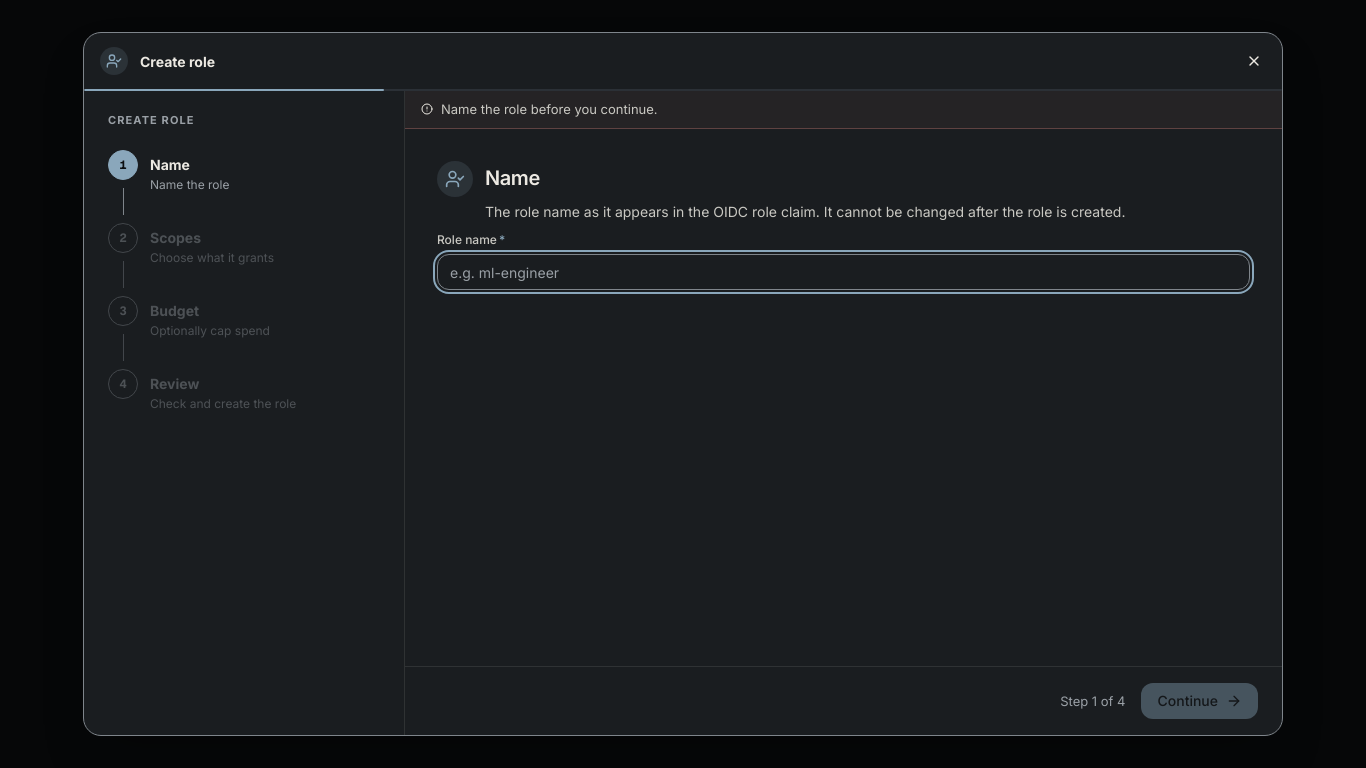
Test: CreateRoleWizard › requires a scope, then creates the role with no budget
Type "ml-engineer" into the field labelled "Role name*" at (844, 272), box [437, 254, 1250, 290]
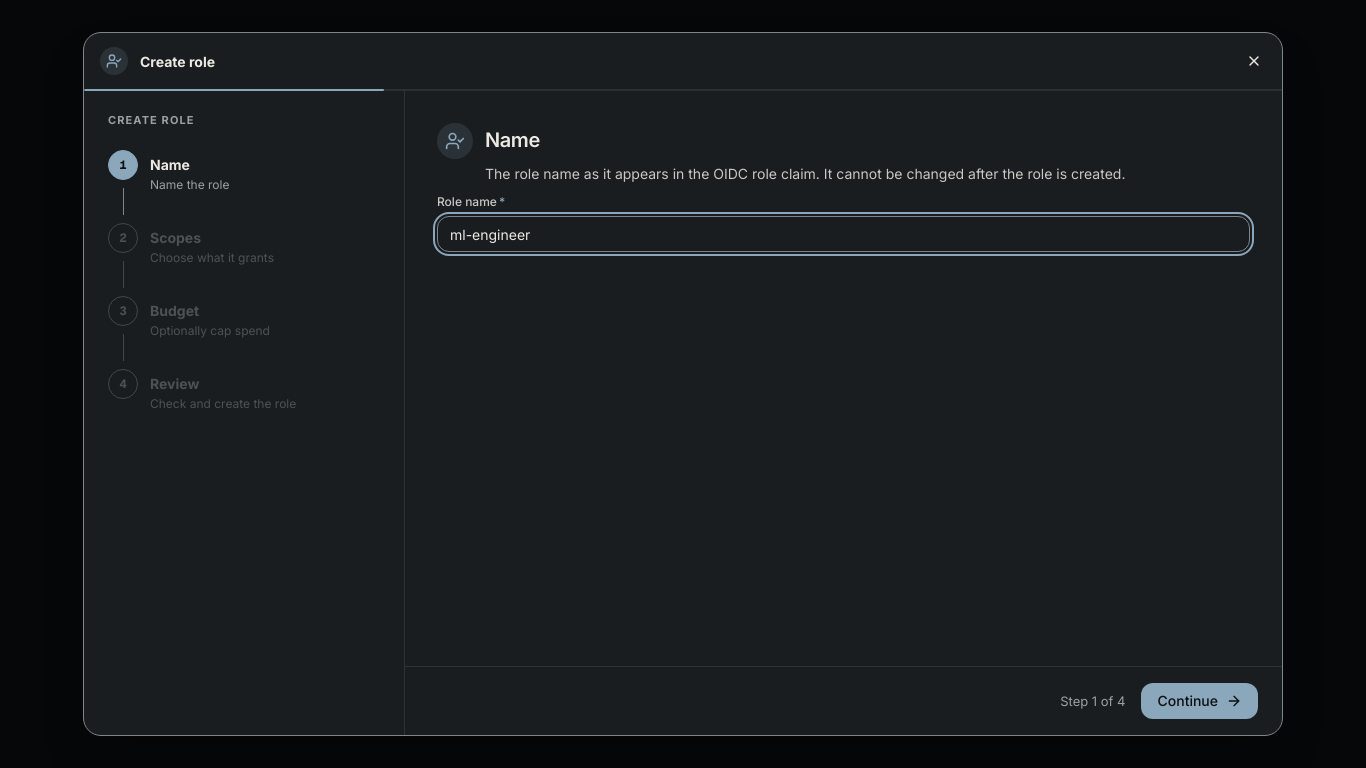
Click the button "Continue" at (1200, 701), box [1142, 683, 1258, 719]
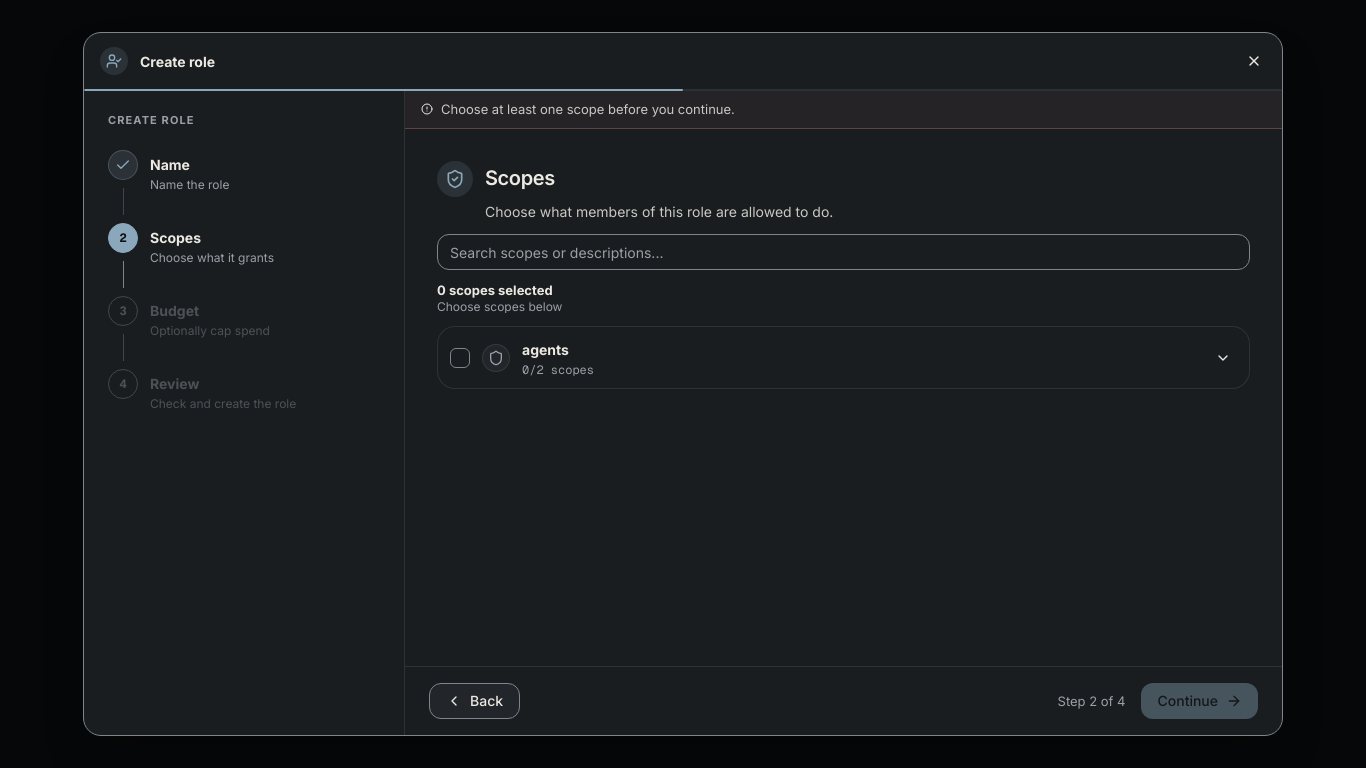
Check: the text "Choose at least one scope before you continue." is shown, box [441, 103, 735, 116]
Click the checkbox at (460, 358), box [450, 348, 470, 368]
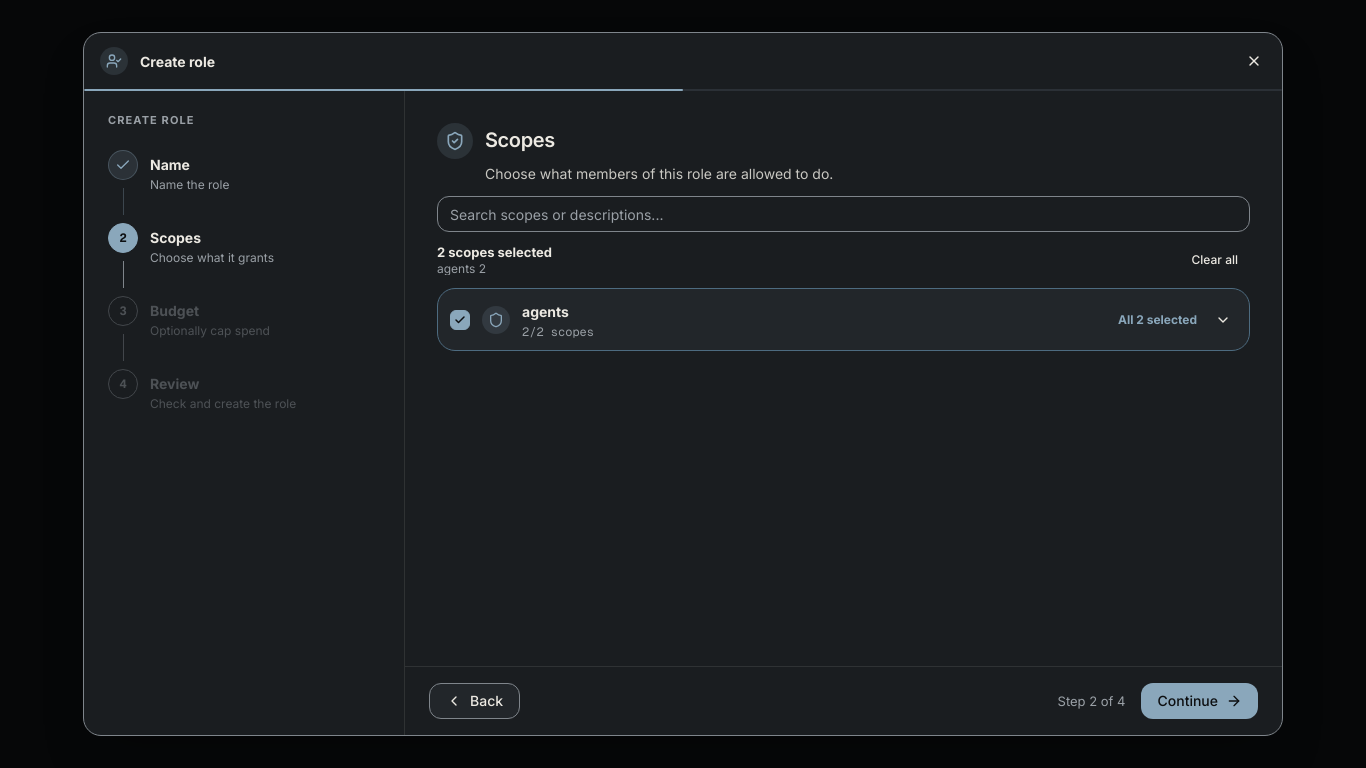
Click the button "Continue" at (1200, 701), box [1142, 683, 1258, 719]
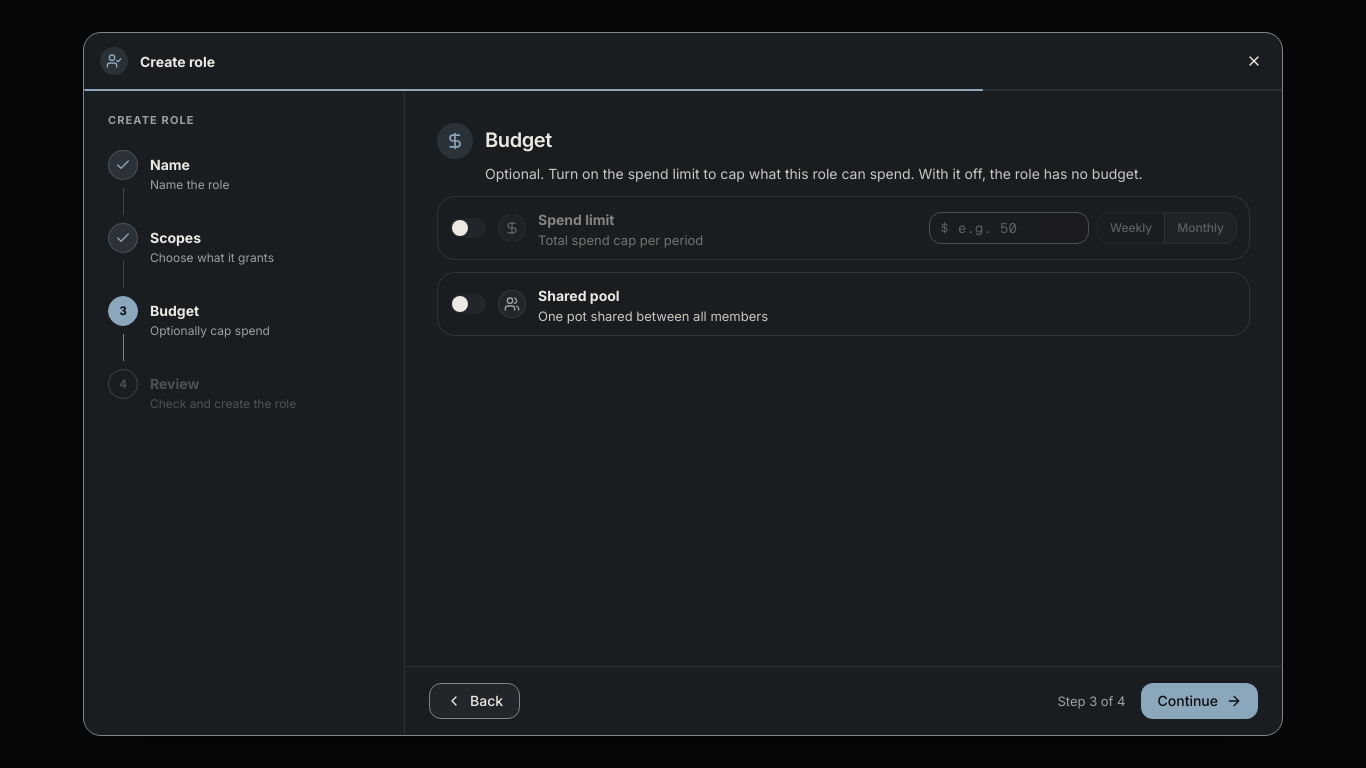
Click the button "Continue" at (1200, 701), box [1142, 683, 1258, 719]
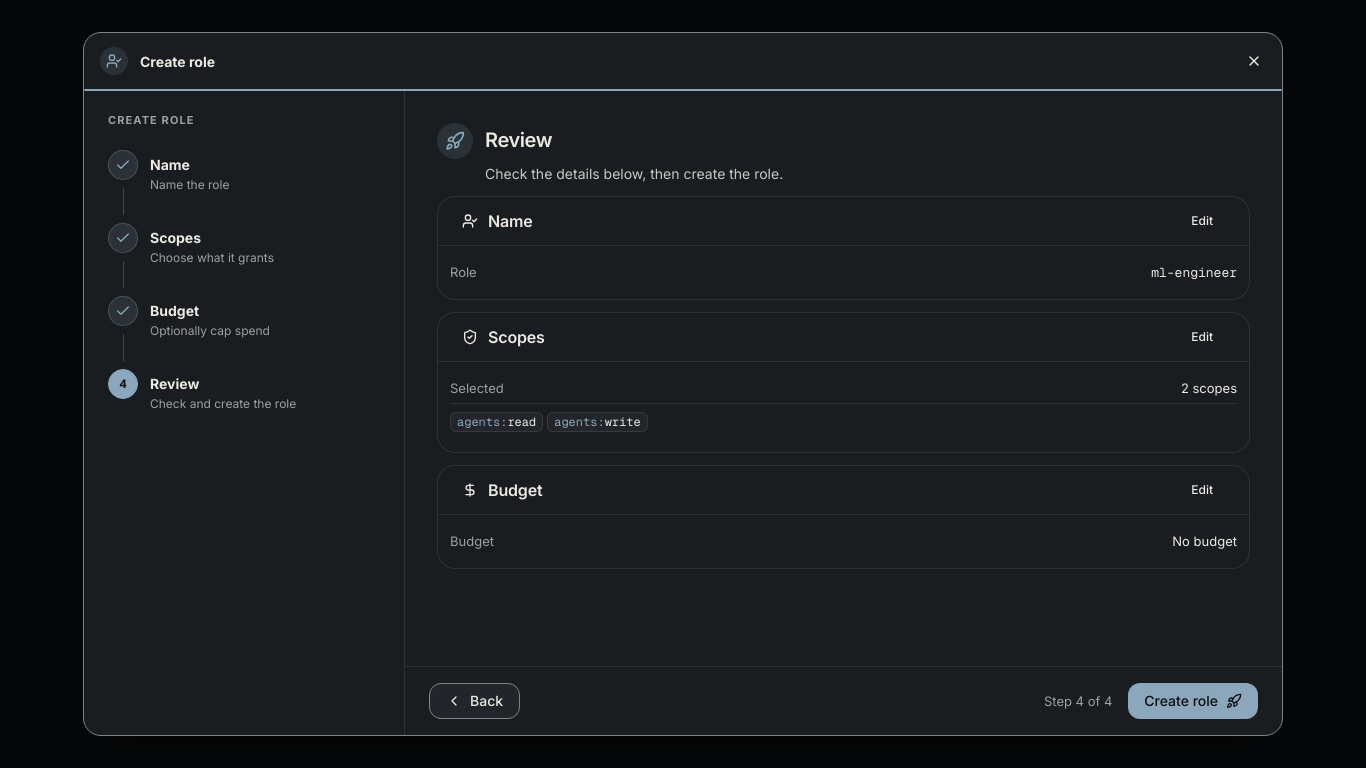
Click the button "Create role" at (1193, 701), box [1128, 683, 1258, 719]
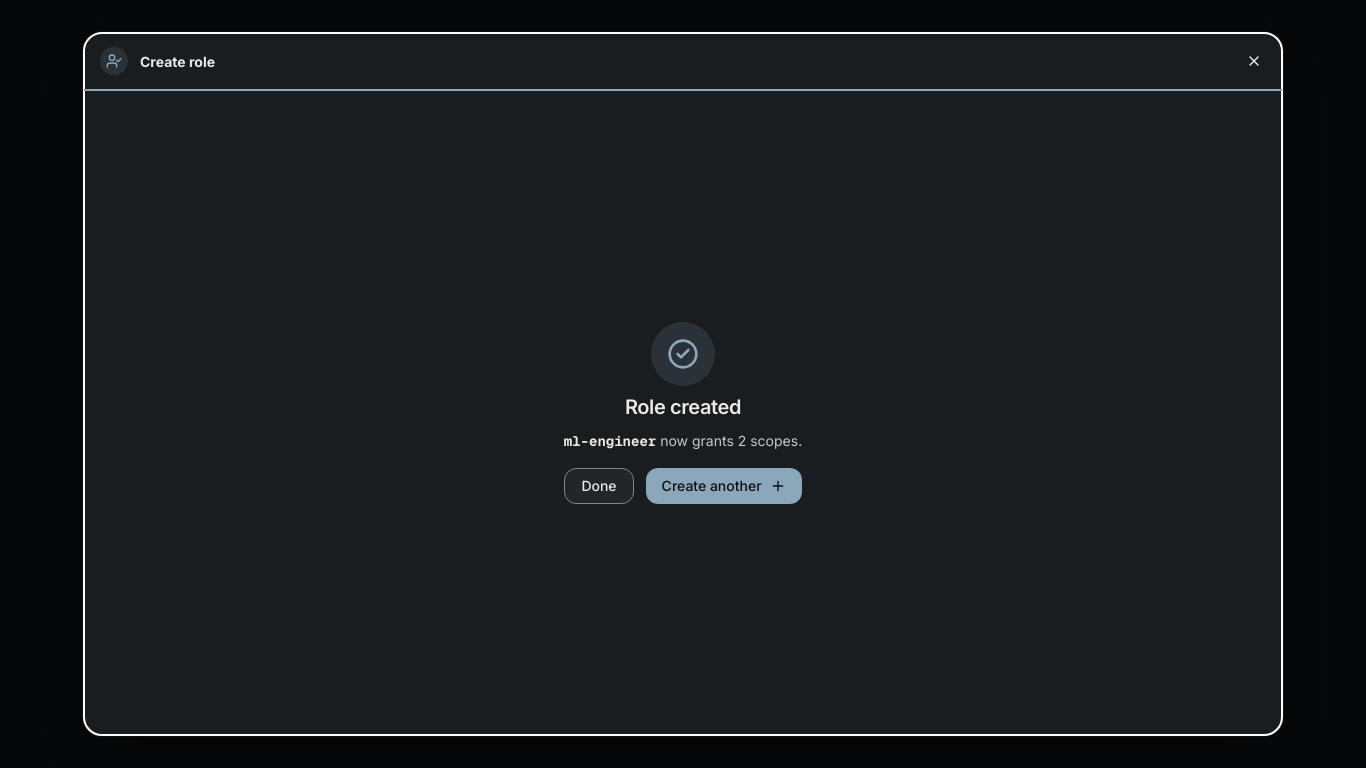
Check: the heading "Role created" is shown, box [625, 394, 741, 422]
